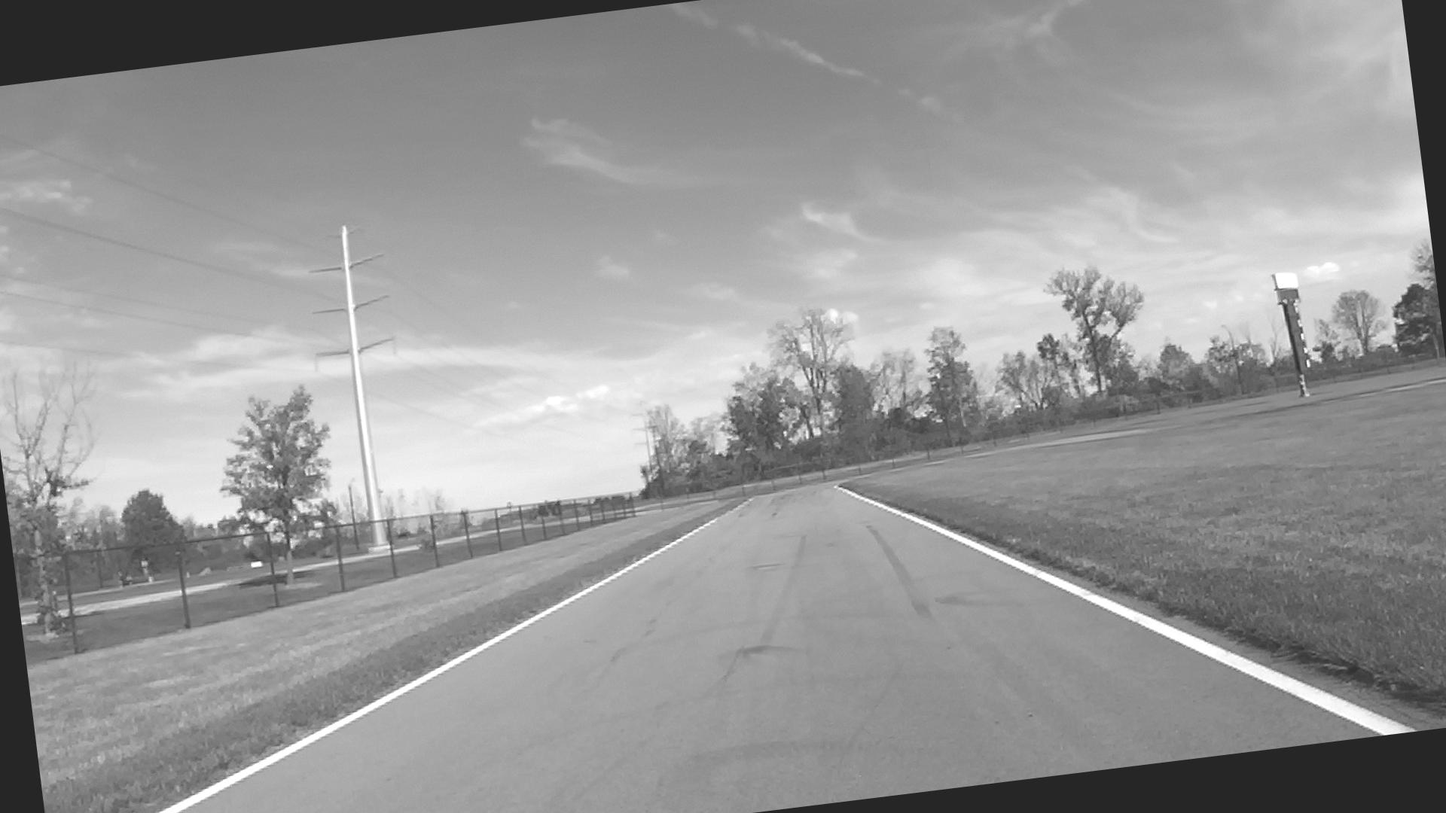white-line: (152, 503, 745, 813), (836, 485, 1422, 735)
